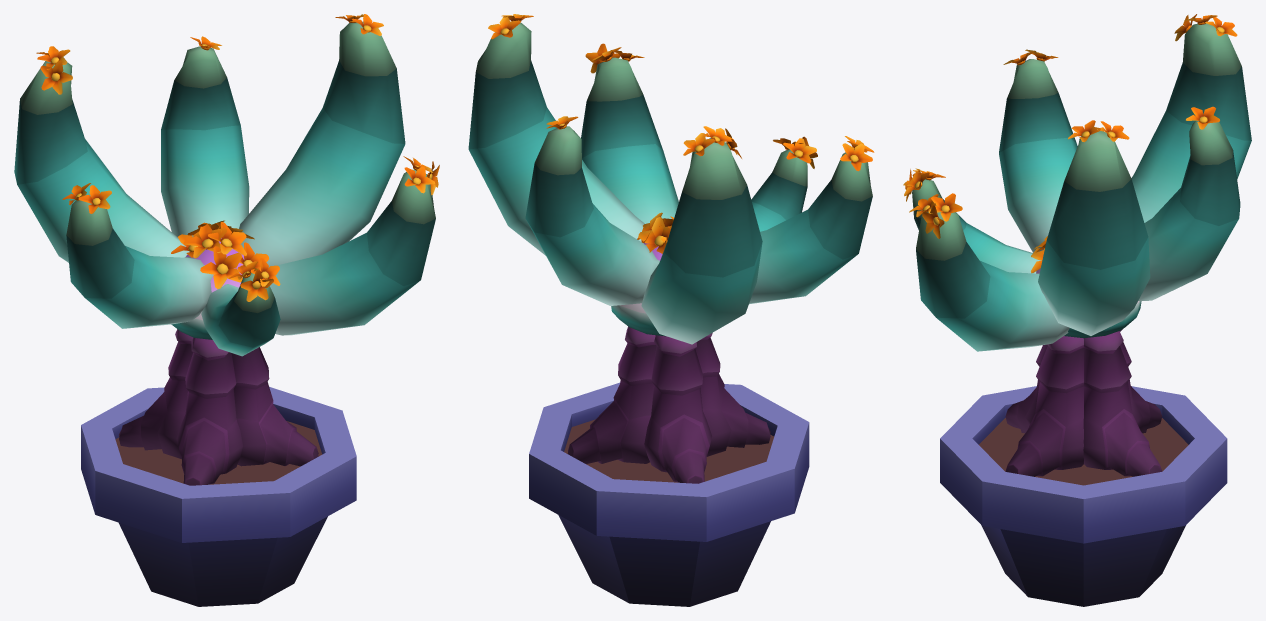
File: wp_wPot_2.fbx
3 renders of one model, left to right at view 1: azimuth 30°, elevation 25°; view 2: azimuth 150°, elevation 25°; view 3: azimuth 270°, elevation 25°, orthographic.
Parts seen in each view (by area): view 1: w_pl2; view 2: w_pl2; view 3: w_pl2.
Part boxes in pixels (x1=…): w_pl2: x1=14, y1=14, x2=439, y2=606; w_pl2: x1=468, y1=14, x2=874, y2=606; w_pl2: x1=903, y1=14, x2=1251, y2=606.
Size of the model in its own units: 159 by 218 by 133.
